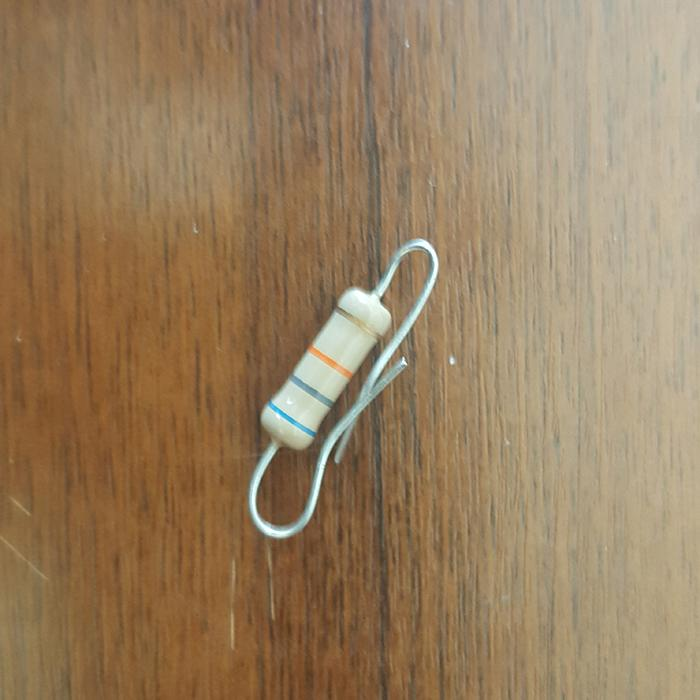resistor: (261, 291, 390, 449)
